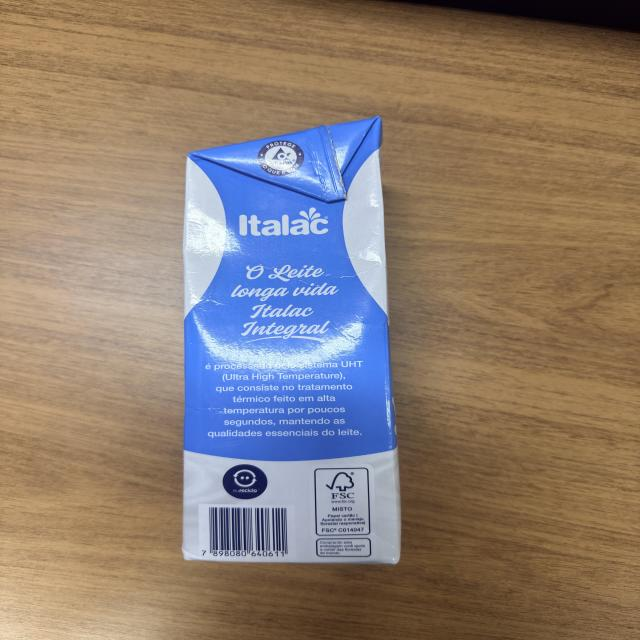Caixa de Leite: (177, 111, 400, 565)
